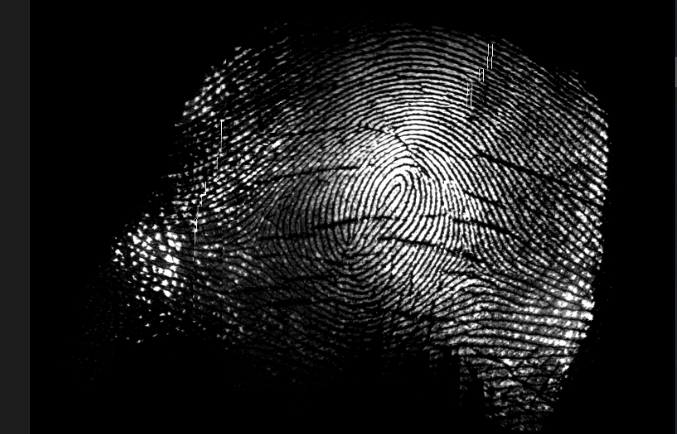deltas: (222, 217, 279, 272), (444, 234, 496, 288)
nucleo: (371, 157, 422, 216)
